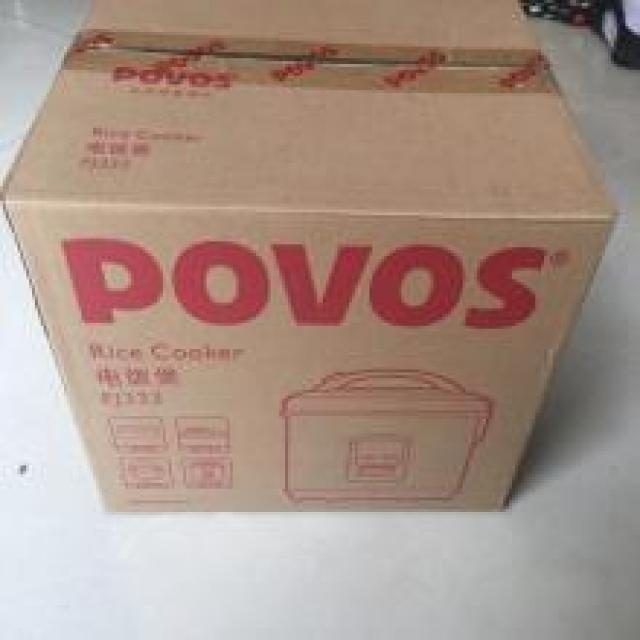cardboard: (0, 0, 617, 515)
